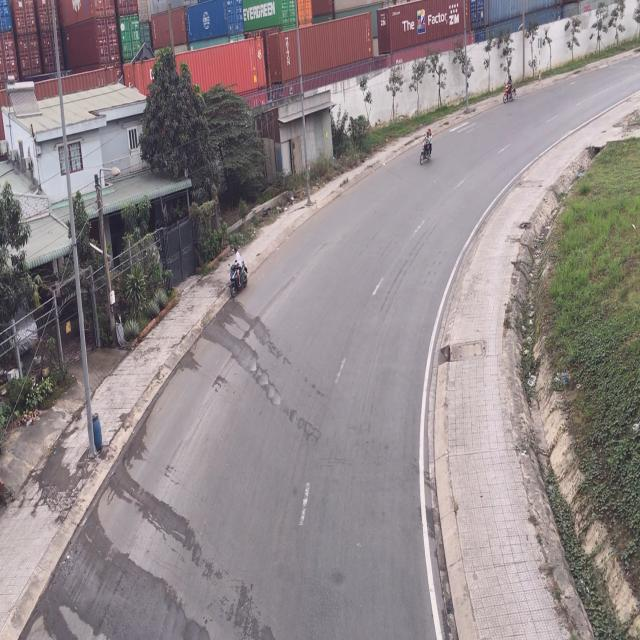motorbike: (230, 250, 249, 301), (418, 126, 434, 166), (502, 68, 517, 108)
